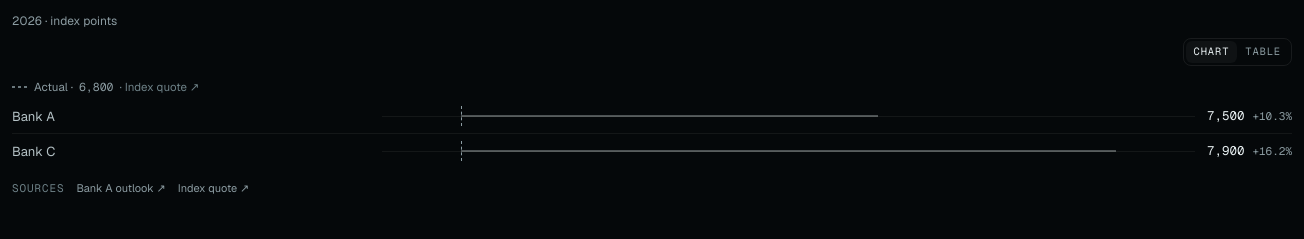
it: comparison charts › dots: accessible values with deltas, provenance on demand, weak points labelled
Expected: the text "2026 · index points" is shown, x1=12 y1=13 x2=117 y2=29
Expected: the button "Bank C 7,900 +16.2%" is shown, x1=12 y1=134 x2=1292 y2=168
Click the button with aria-label "Bank A: 7,500, +10.3% vs Actual. Source: Bank A outlook" at (652, 116), box x1=12 y1=99 x2=1292 y2=133
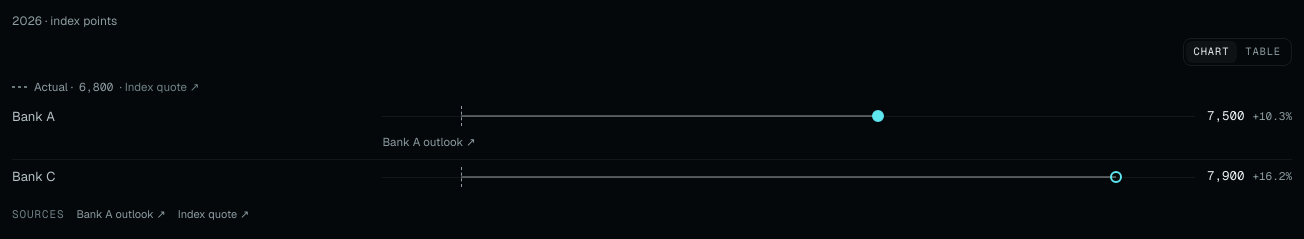
Expected: the link "Index quote ↗" next to "6,800" is shown, x1=125 y1=79 x2=199 y2=94
Result: the 1st link "Bank A outlook ↗" is shown at x1=382 y1=134 x2=476 y2=149
